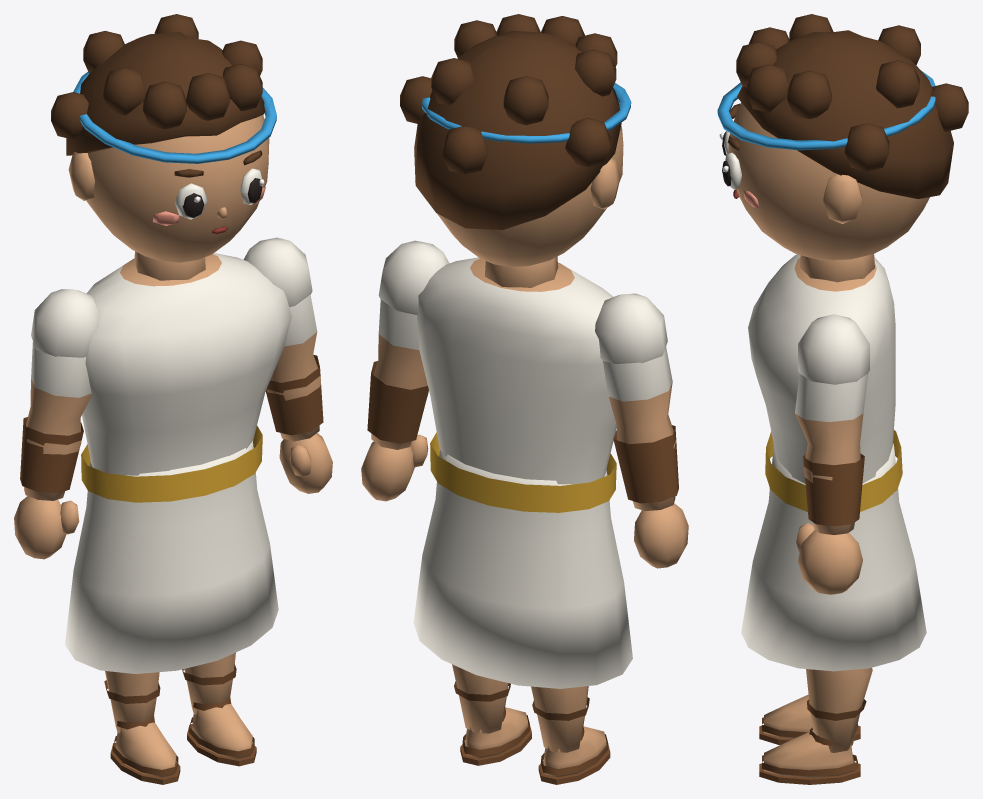
The model's file is wagenlenker.glb.
3 views of the same model, side by side, from view 1: azimuth 30°, elevation 25°; view 2: azimuth 150°, elevation 25°; view 3: azimuth 270°, elevation 25° (orthographic). The views are drawn at different scales.
Parts seen in each view (by area): view 1: rumpf, huefte, haare, kopf, armL, armR, knieL, knieR, kopfschmuck, augeL, augeR; view 2: rumpf, huefte, haare, armL, armR, kopf, knieL, knieR, kopfschmuck; view 3: haare, huefte, rumpf, armR, kopf, knieR, kopfschmuck, knieL, augeR.
Boxes of the visible parts, x1,y1,x2,y2 form: rumpf: (81,253,291,502); huefte: (65,441,278,673); haare: (51,14,265,155); kopf: (68,115,269,280); armL: (14,289,100,559); armR: (243,237,332,493); knieL: (104,671,180,784); knieR: (182,652,256,766); kopfschmuck: (73,72,276,163); augeL: (174,183,207,219); augeR: (240,168,264,204); rumpf: (417,257,616,512); huefte: (413,450,632,688); haare: (400,14,621,229); armL: (595,293,688,568); armR: (361,240,449,501); kopf: (437,126,623,287); knieL: (531,686,610,784); knieR: (452,664,531,765); kopfschmuck: (422,83,631,143); haare: (736,14,968,198); huefte: (741,443,926,671); rumpf: (748,254,902,511); armR: (795,314,869,594); kopf: (728,102,929,282); knieR: (759,668,872,784); kopfschmuck: (717,70,935,150); knieL: (759,694,860,744); augeR: (722,152,741,189).
Size of the model in its own units: 1.05 by 2.3 by 0.7309.
